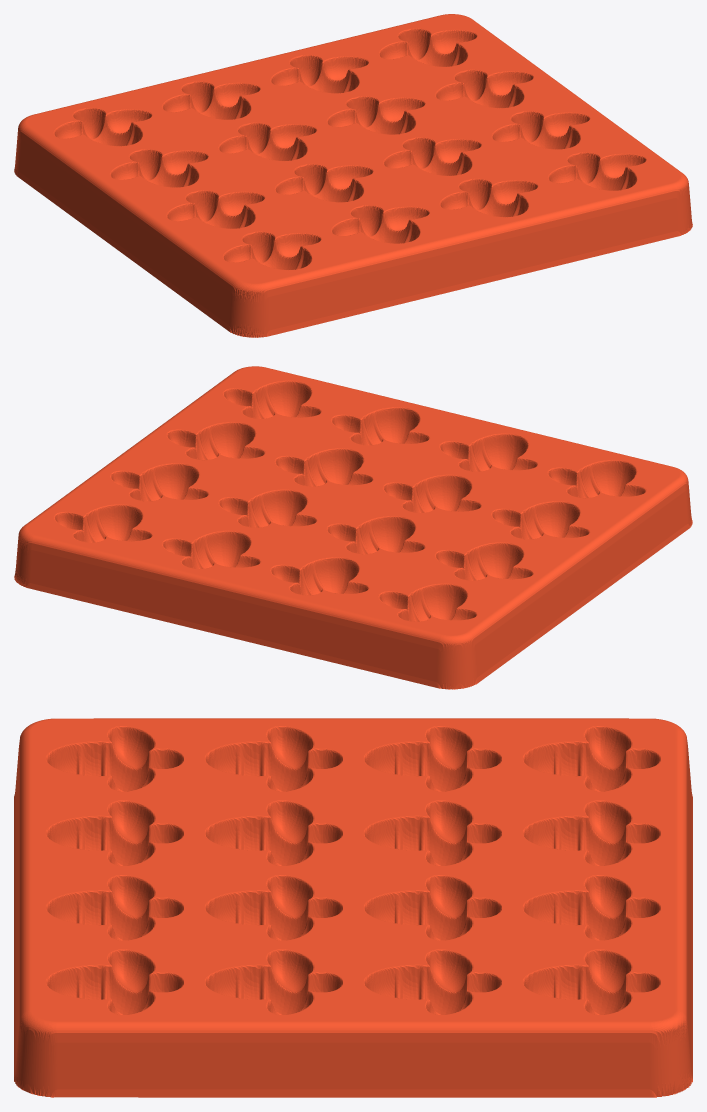
Rendered from mold.glb.
3 renders of one model, top to bottom at view 1: azimuth 30°, elevation 25°; view 2: azimuth 150°, elevation 25°; view 3: azimuth 270°, elevation 25°, orthographic. The views are drawn at different scales.
Parts seen in each view (by area): view 1: geometry_0; view 2: geometry_0; view 3: geometry_0.
Part boxes in pixels (x1=…): geometry_0: x1=14, y1=14, x2=692, y2=337; geometry_0: x1=14, y1=366, x2=692, y2=689; geometry_0: x1=14, y1=718, x2=692, y2=1097.
Bounding box in the file's own units: 0.1569 × 0.0159 × 0.1423.
